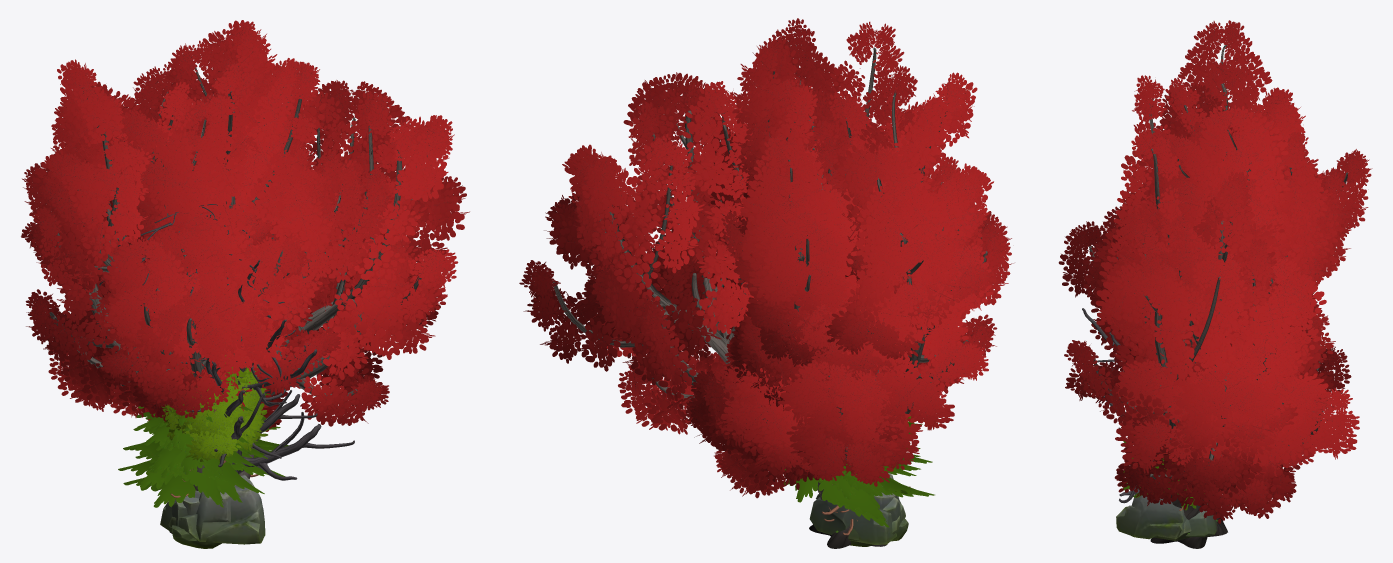
Rendered from natureza.glb.
The picture shows the model from 3 angles, left to right: view 1: azimuth 30°, elevation 25°; view 2: azimuth 150°, elevation 25°; view 3: azimuth 270°, elevation 25°; orthographic projection. The views are drawn at different scales.
Visible parts, largest first — view 1: TwistedTree_2, TwistedTree_1, TwistedTree_3, TwistedTree_4, TwistedTree_5, DeadTree_2, Rock_Medium_3, Pine_2, Pine_5, Pine_4, CommonTree_3, CommonTree_2 (+4 smaller); view 2: TwistedTree_1, TwistedTree_2, TwistedTree_4, TwistedTree_3, TwistedTree_5, Rock_Medium_2, Pine_5, Pine_2; view 3: TwistedTree_1, TwistedTree_4, TwistedTree_2, TwistedTree_3, TwistedTree_5, Rock_Medium_3, Rock_Medium_2.
Boxes of the visible parts, left/top/right/bottom form: TwistedTree_2: left=21, top=59, right=320, bottom=490; TwistedTree_1: left=145, top=60, right=469, bottom=533; TwistedTree_3: left=48, top=92, right=394, bottom=418; TwistedTree_4: left=66, top=20, right=367, bottom=433; TwistedTree_5: left=91, top=98, right=345, bottom=319; DeadTree_2: left=169, top=245, right=354, bottom=480; Rock_Medium_3: left=172, top=475, right=265, bottom=548; Pine_2: left=123, top=424, right=272, bottom=507; Pine_5: left=118, top=413, right=288, bottom=502; Pine_4: left=123, top=393, right=270, bottom=497; CommonTree_3: left=169, top=355, right=266, bottom=440; CommonTree_2: left=161, top=367, right=267, bottom=463; TwistedTree_1: left=519, top=72, right=887, bottom=548; TwistedTree_2: left=721, top=18, right=1013, bottom=441; TwistedTree_4: left=710, top=37, right=937, bottom=489; TwistedTree_3: left=683, top=99, right=1011, bottom=498; TwistedTree_5: left=709, top=119, right=924, bottom=410; Rock_Medium_2: left=809, top=492, right=896, bottom=544; Pine_5: left=785, top=433, right=925, bottom=519; Pine_2: left=779, top=448, right=934, bottom=527; TwistedTree_1: left=1064, top=171, right=1359, bottom=548; TwistedTree_4: left=1080, top=84, right=1372, bottom=380; TwistedTree_2: left=1100, top=20, right=1318, bottom=376; TwistedTree_3: left=1058, top=163, right=1351, bottom=513; TwistedTree_5: left=1111, top=166, right=1350, bottom=379; Rock_Medium_3: left=1116, top=488, right=1186, bottom=539; Rock_Medium_2: left=1186, top=510, right=1216, bottom=537.
Size of the model in its own units: 17.96 by 19.08 by 12.13.
Materials: 11 (11 with a texture image).
